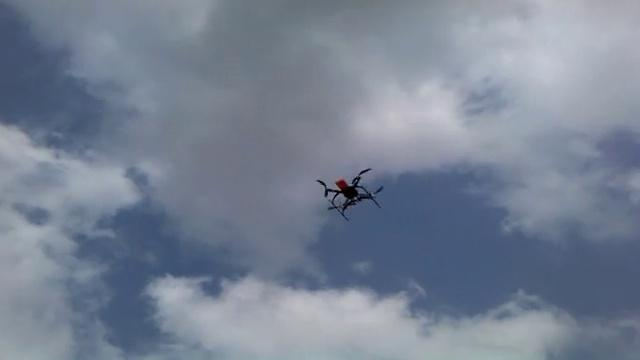drone: (314, 165, 383, 221)
